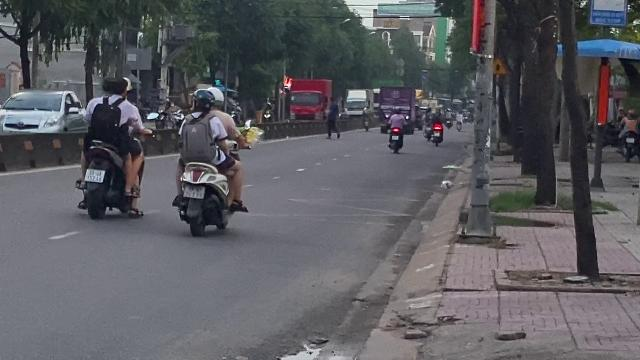helmet: (190, 89, 213, 113), (208, 87, 224, 109)
licenseplate: (85, 168, 105, 182), (184, 184, 204, 198)
motorcyclist: (170, 86, 250, 236), (73, 73, 147, 219)
nohelmet: (108, 76, 128, 98)
